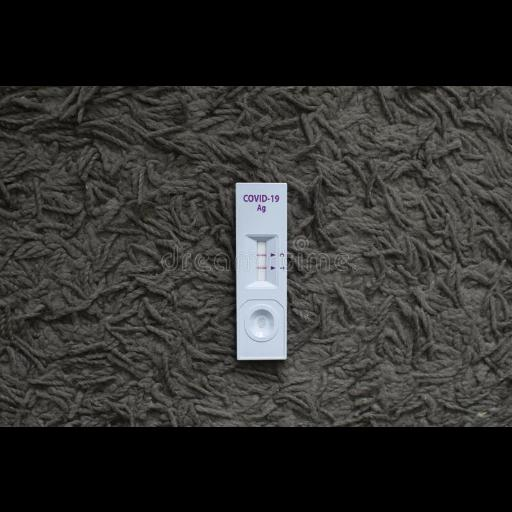Pos: (238, 182, 284, 358)
